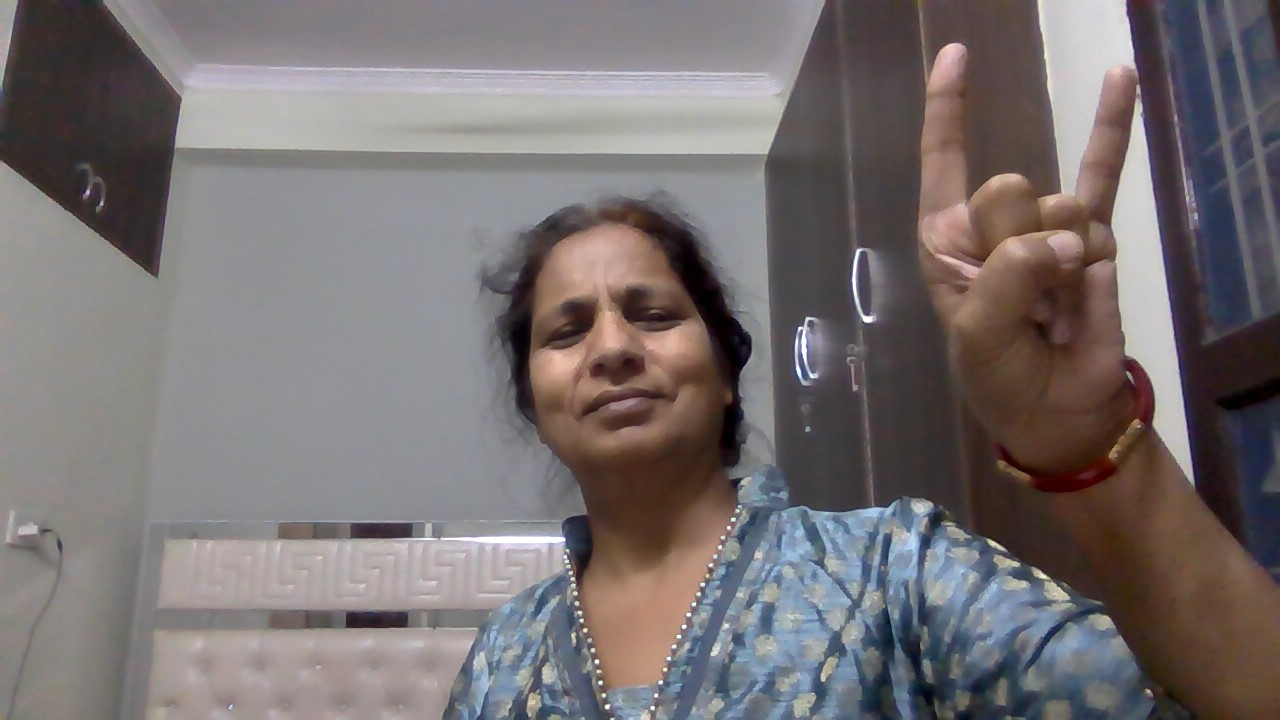Select All: (899, 34, 1159, 436)
